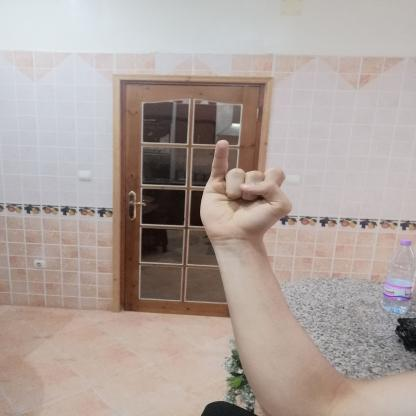MEEM: (185, 132, 303, 252)
